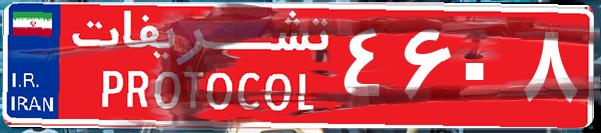0: (460, 20, 520, 115)
4: (340, 20, 400, 115)
6: (400, 20, 460, 115)
8: (520, 20, 580, 115)
تشریفات: (60, 8, 340, 125)
